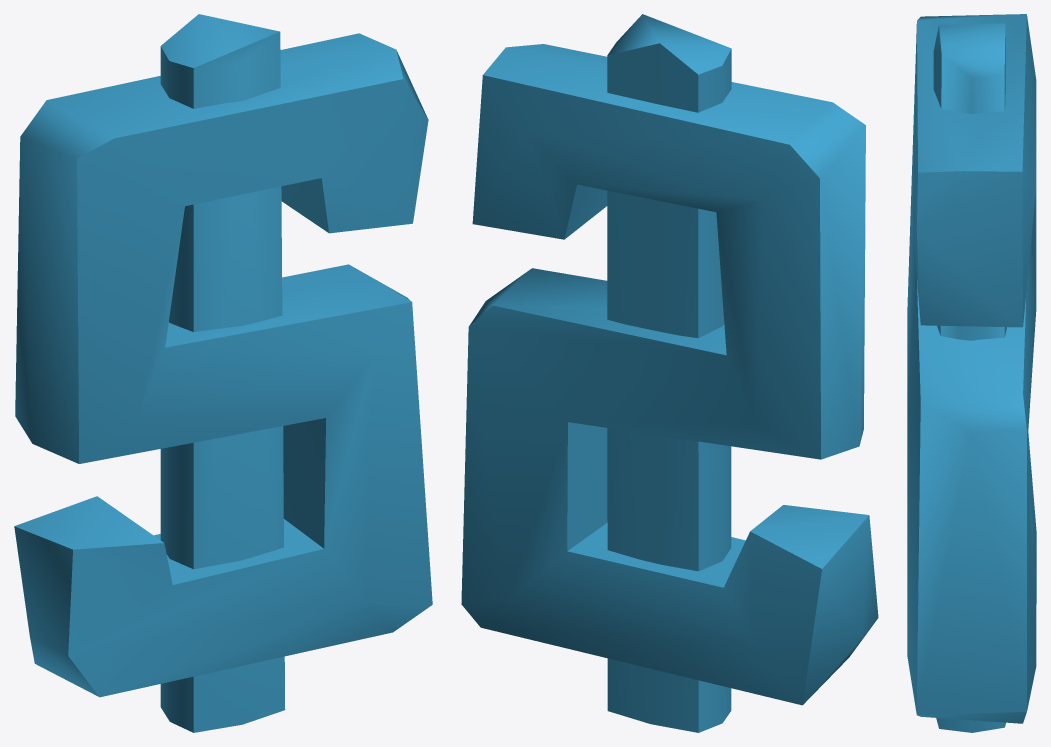
File: 01 money.FBX
3 renders of one model, left to right at view 1: azimuth 30°, elevation 25°; view 2: azimuth 150°, elevation 25°; view 3: azimuth 270°, elevation 25°, orthographic.
Visible parts, largest first — view 1: SM_Icon_Letter_Money_01; view 2: SM_Icon_Letter_Money_01; view 3: SM_Icon_Letter_Money_01.
Boxes of the visible parts, left/top/right/bottom form: SM_Icon_Letter_Money_01: left=14, top=14, right=432, bottom=732; SM_Icon_Letter_Money_01: left=461, top=14, right=878, bottom=732; SM_Icon_Letter_Money_01: left=907, top=14, right=1036, bottom=732.
Size of the model in its own units: 38.06 by 66.09 by 11.36.
